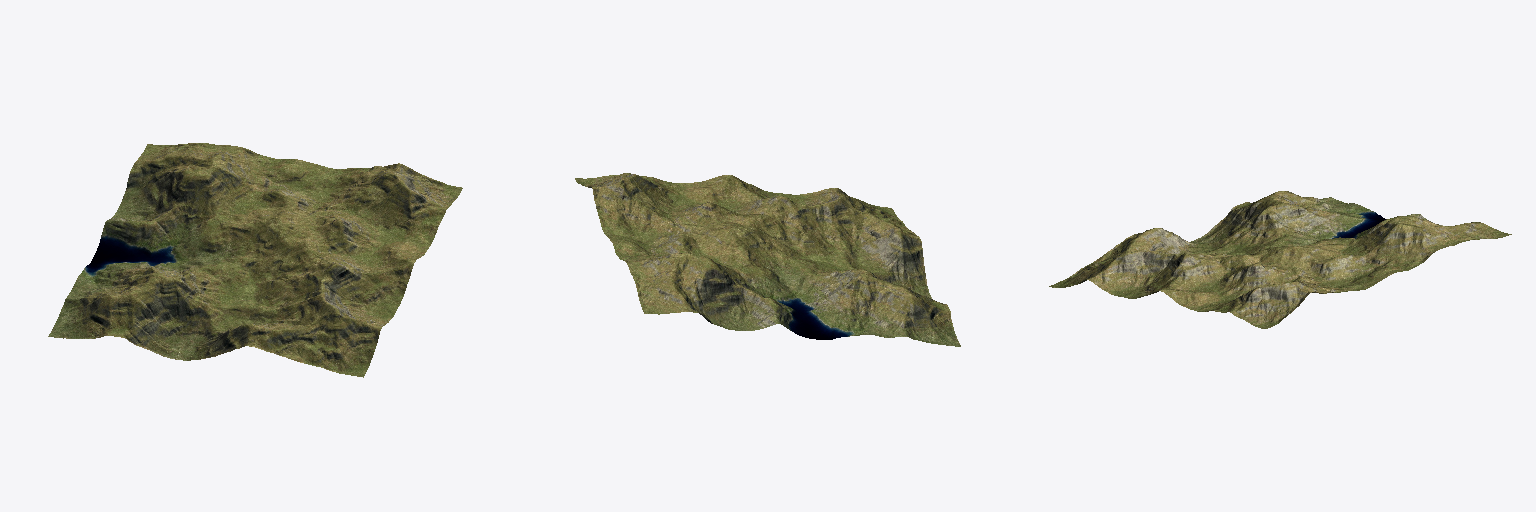
3 views of the same model, side by side, from view 1: azimuth 30°, elevation 25°; view 2: azimuth 150°, elevation 25°; view 3: azimuth 270°, elevation 25° (orthographic).
Visible parts, largest first — view 1: terrain_g; view 2: terrain_g; view 3: terrain_g.
Boxes of the visible parts, box(x1,y1,x2,y2) form: terrain_g: box(48, 143, 462, 377); terrain_g: box(575, 173, 960, 346); terrain_g: box(1049, 191, 1511, 328).
Bounding box in the file's own units: 57.96 × 11.93 × 58.05.
1 materials, 1 textured.